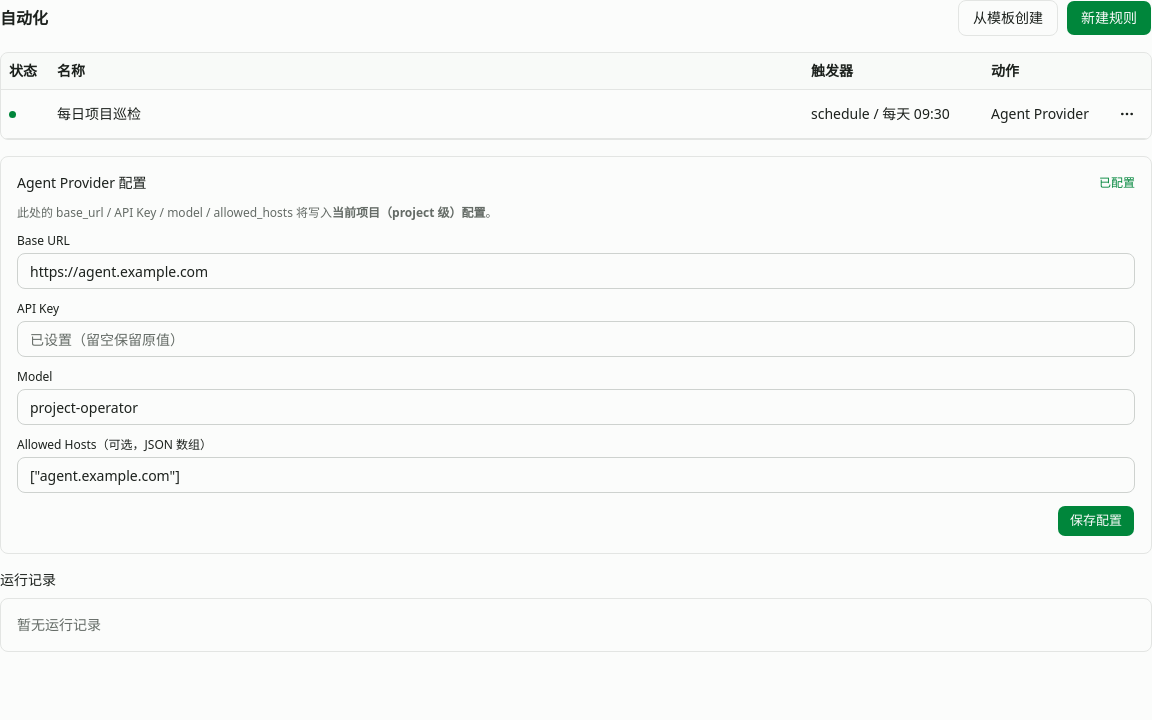
ProjectAutomationsPage › opens create dialog from template with event prefilled
The image size is (1152, 720).
Expected: the text "每日项目巡检" is shown, [57,104,141,123]
Click the button "从模板创建": coordinates (1008, 18) [958,0,1058,36]
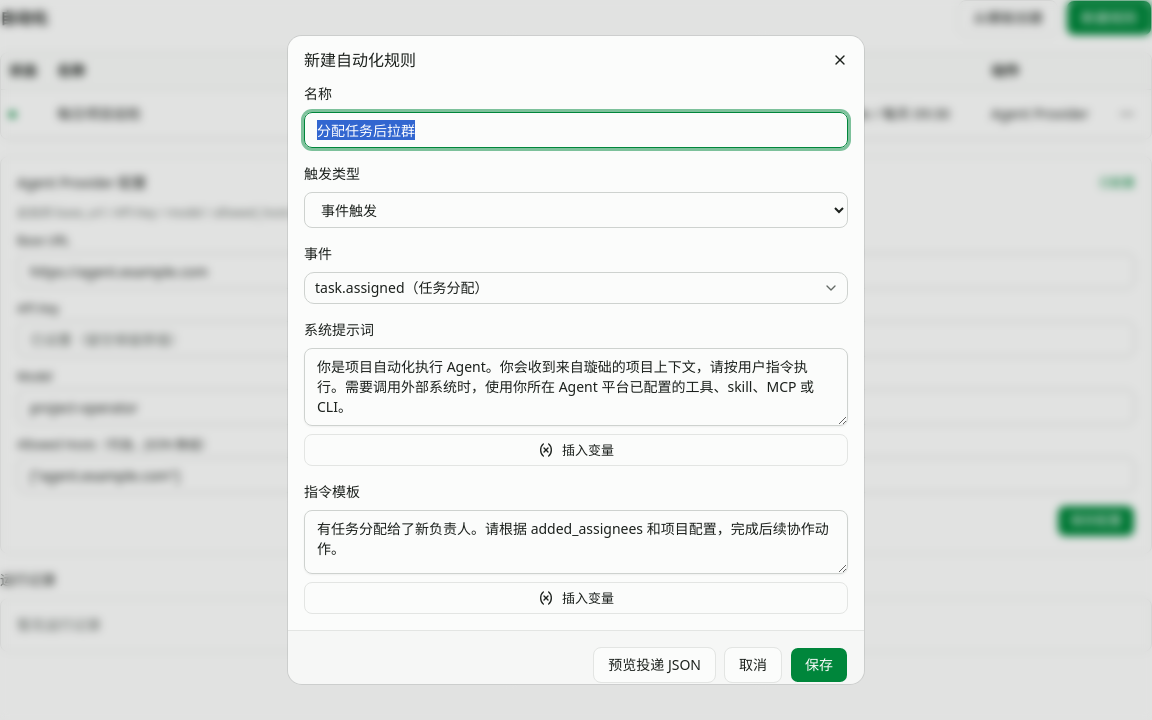
Expected: the dialog "新建自动化规则" is shown, [288,36,864,684]
Expected: the field showing "分配任务后拉群" is shown, [304,112,848,148]
Expected: the dropdown named "事件" shows "task.assigned", [304,272,848,304]
